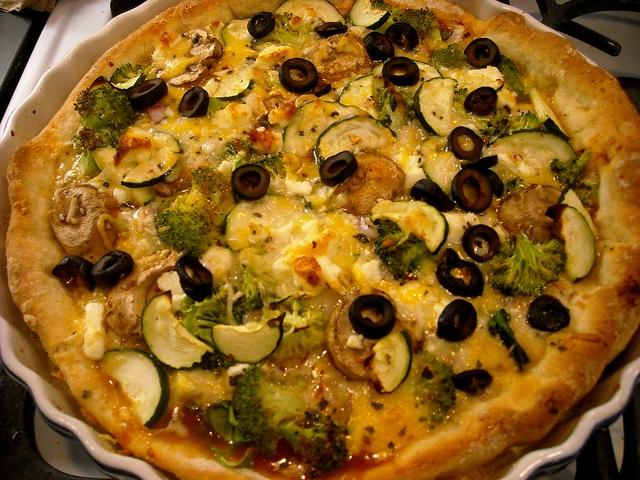broccoli: (153, 166, 230, 256), (232, 364, 308, 451), (491, 232, 564, 298), (278, 410, 349, 472), (268, 298, 327, 362), (411, 350, 457, 422), (73, 85, 137, 135), (372, 232, 432, 280), (487, 308, 531, 372), (250, 12, 309, 50), (70, 126, 113, 176), (240, 264, 280, 312), (398, 7, 442, 46), (550, 150, 592, 189), (495, 55, 525, 98), (479, 108, 510, 148), (218, 282, 244, 326), (429, 42, 468, 70), (252, 152, 286, 182), (505, 110, 543, 134), (216, 144, 242, 171), (376, 92, 392, 127), (115, 63, 138, 79), (454, 88, 468, 96)
mushroom: (105, 248, 178, 340), (334, 149, 406, 216), (50, 182, 109, 256), (325, 305, 380, 380), (498, 184, 564, 244), (322, 33, 364, 74), (183, 28, 224, 66)
vegetable marrow: (141, 289, 214, 370), (222, 193, 320, 252), (486, 129, 579, 191), (212, 294, 292, 364), (104, 347, 170, 429), (282, 99, 363, 156), (370, 198, 450, 255), (314, 114, 398, 167), (544, 203, 595, 284), (122, 131, 184, 188), (364, 330, 412, 394), (371, 59, 443, 98), (412, 76, 458, 136), (418, 136, 462, 196), (530, 86, 570, 141), (338, 74, 381, 118), (557, 186, 595, 234), (275, 0, 346, 25), (456, 66, 504, 96), (349, 0, 391, 31), (202, 72, 249, 98), (221, 19, 252, 46), (106, 73, 147, 92), (90, 144, 116, 171)
